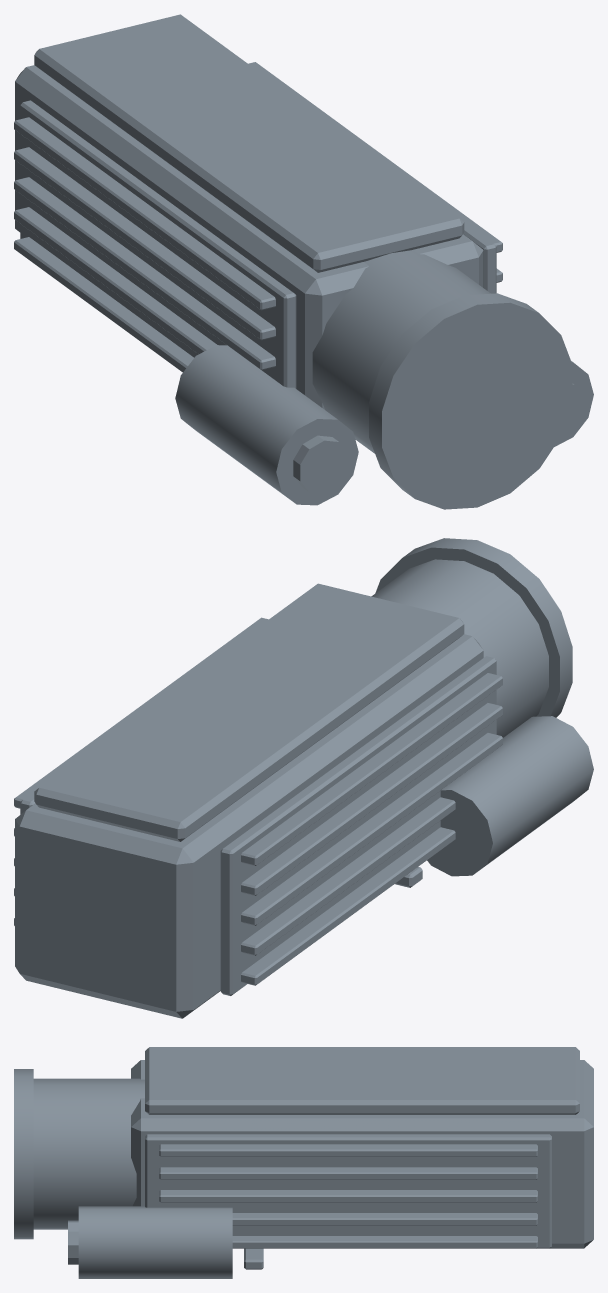
The model's file is pd_laser_housing.glb.
3 views of the same model, one above another, from view 1: azimuth 30°, elevation 25°; view 2: azimuth 150°, elevation 25°; view 3: azimuth 270°, elevation 25° (orthographic). The views are drawn at different scales.
Visible parts, largest first — view 1: pd_laser_housing; view 2: pd_laser_housing; view 3: pd_laser_housing.
Boxes of the visible parts, x1=… form: pd_laser_housing: x1=14, y1=14, x2=593, y2=509; pd_laser_housing: x1=14, y1=538, x2=593, y2=1018; pd_laser_housing: x1=14, y1=1047, x2=593, y2=1278.
Size of the model in its own units: 0.4 by 0.253 by 0.827.
